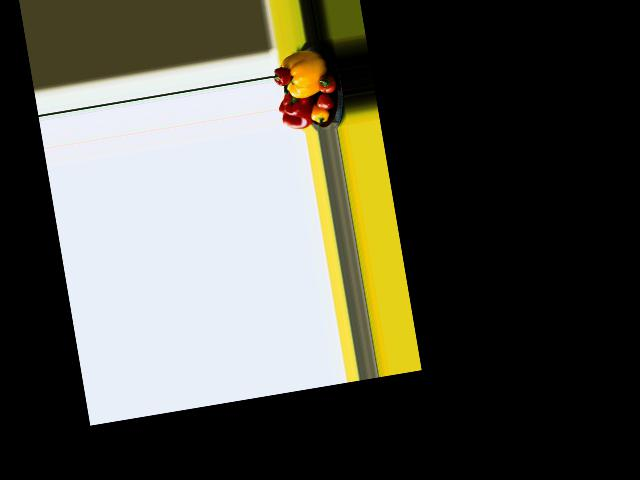bell_pepper: (309, 104, 330, 126)
